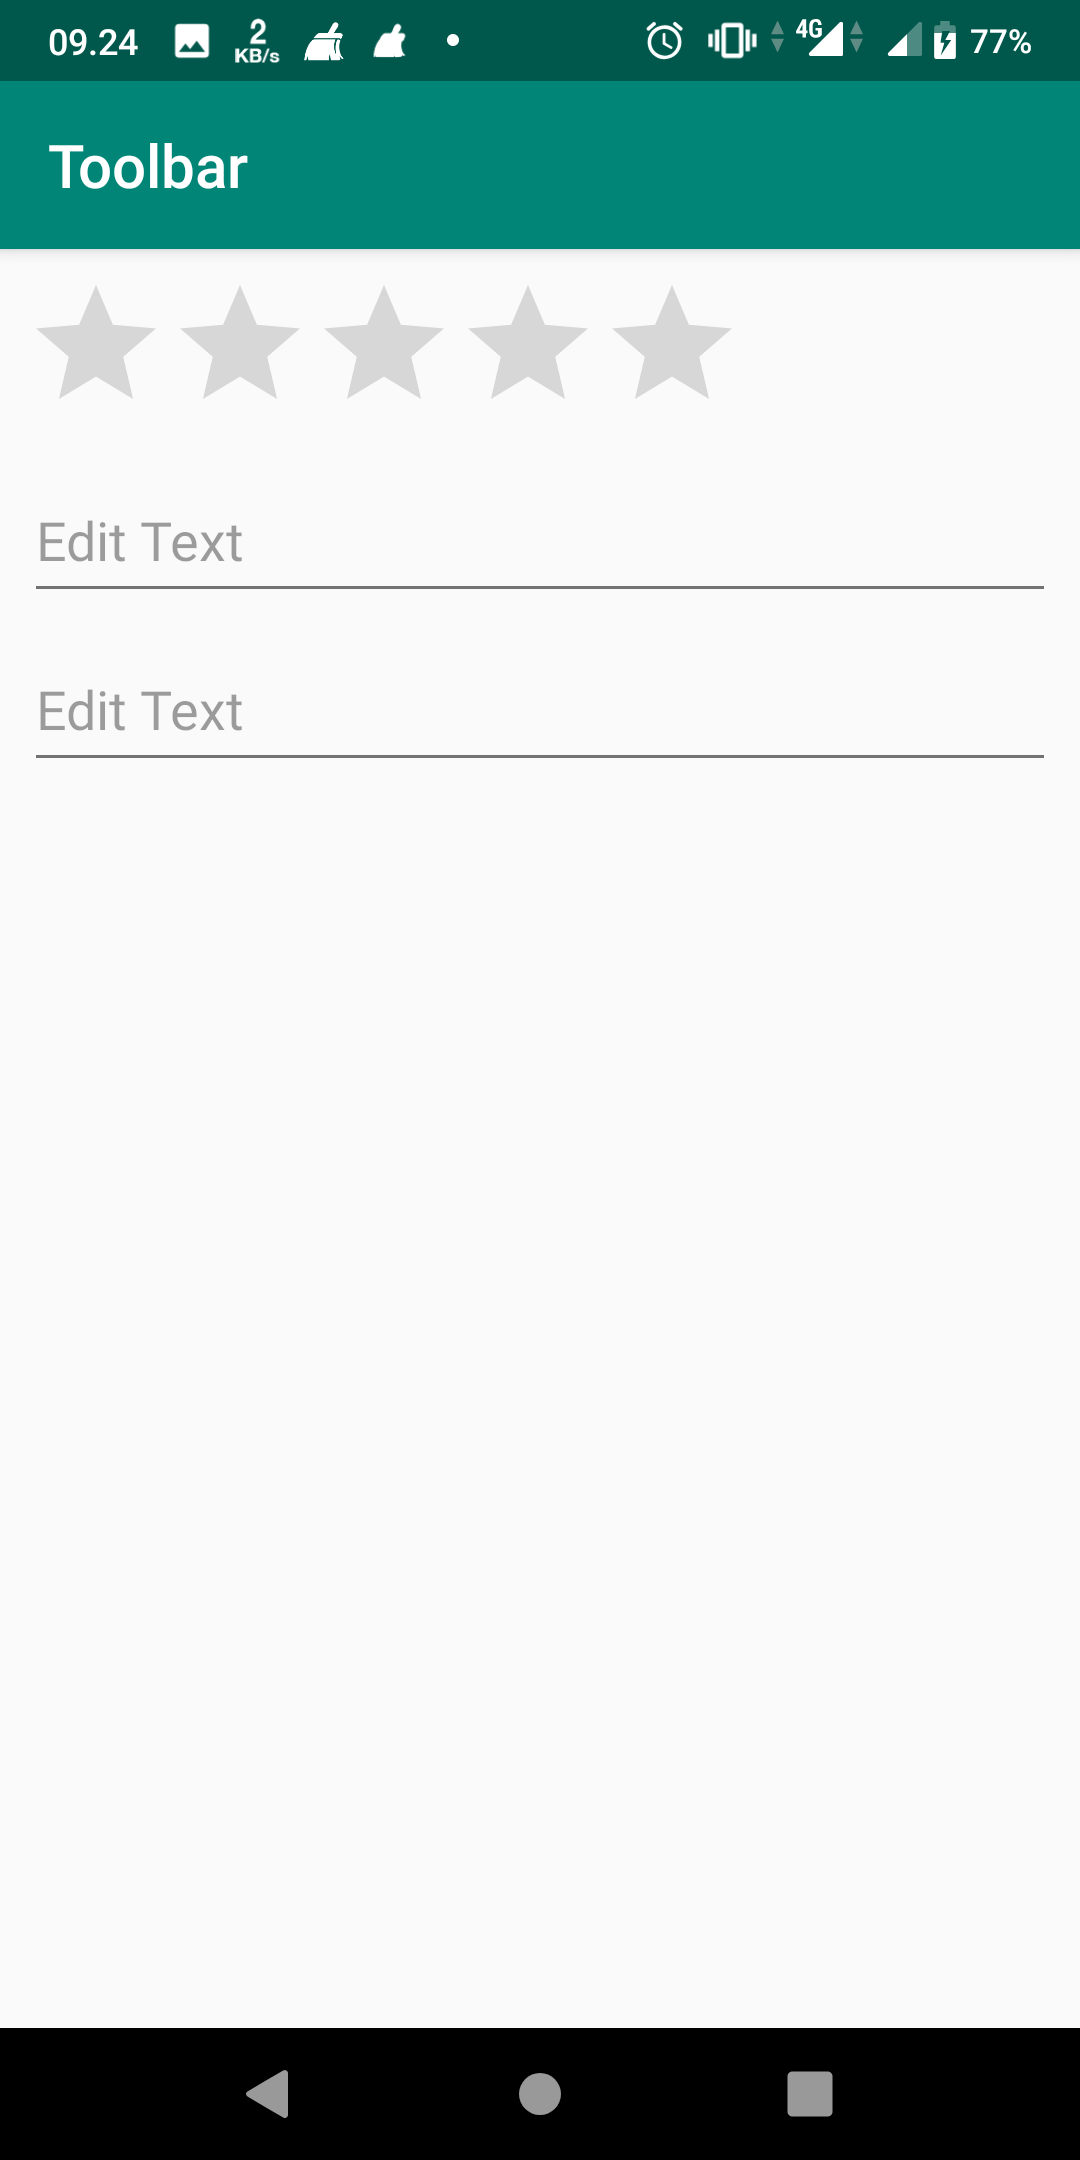editText: (22, 499, 1061, 614), (28, 667, 1061, 782)
ratingBar: (28, 282, 744, 415)
toolbar: (6, 80, 1080, 247)
